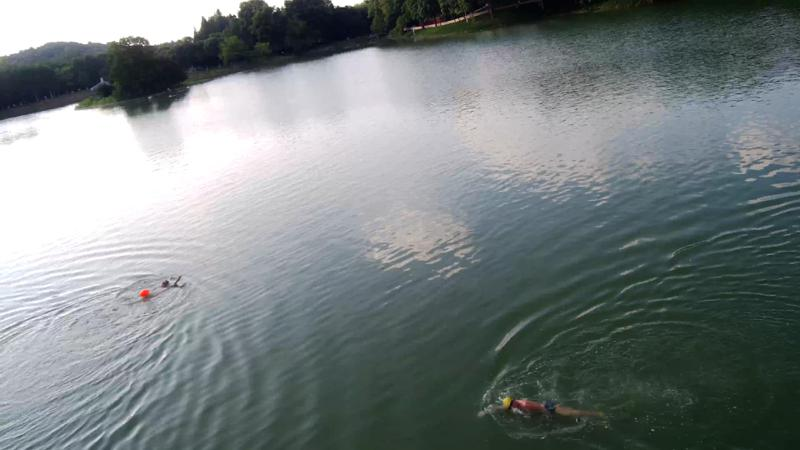swimmers: (492, 394, 604, 420), (157, 274, 181, 292)
